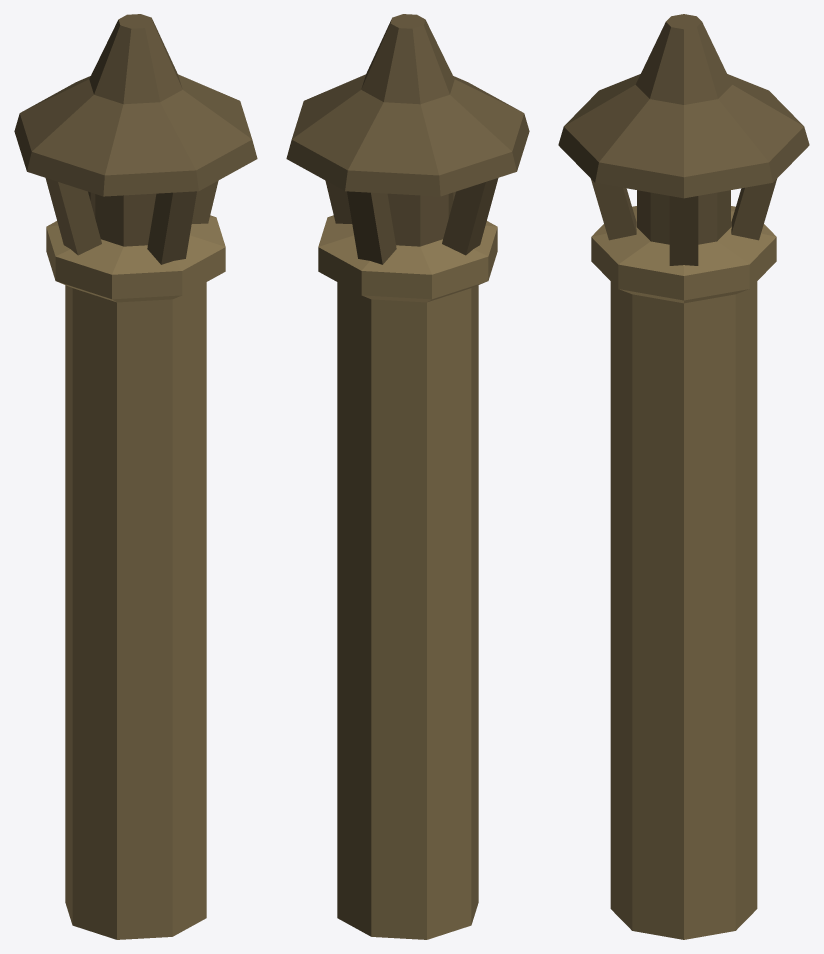
File: Chimney_1.fbx
3 renders of one model, left to right at view 1: azimuth 30°, elevation 25°; view 2: azimuth 150°, elevation 25°; view 3: azimuth 270°, elevation 25°, orthographic.
Visible parts, largest first — view 1: Chimney_1; view 2: Chimney_1; view 3: Chimney_1.
Part boxes in pixels (<box>): Chimney_1: <box>14,14,257,939</box>; Chimney_1: <box>286,14,529,939</box>; Chimney_1: <box>558,14,809,939</box>.
Size of the model in its own units: 34.54 by 135 by 34.54.
